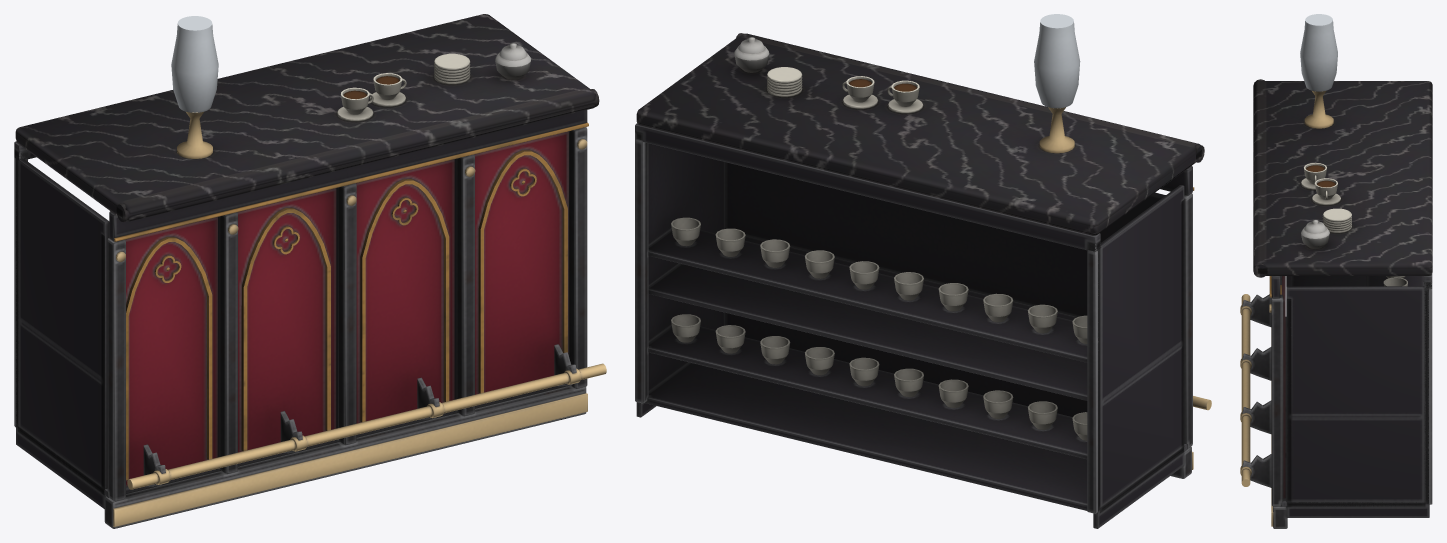
File: CafeBarCounter.fbx
3 views of the same model, side by side, from view 1: azimuth 30°, elevation 25°; view 2: azimuth 150°, elevation 25°; view 3: azimuth 270°, elevation 25° (orthographic). The views are drawn at different scales.
Visible parts, largest first — view 1: CafeBarCounter_Main, CafeBarCounter_Glass; view 2: CafeBarCounter_Main, CafeBarCounter_Glass; view 3: CafeBarCounter_Main, CafeBarCounter_Glass.
Boxes of the visible parts, x1,y1,x2,y2 form: CafeBarCounter_Main: (14, 14, 606, 528); CafeBarCounter_Glass: (171, 16, 218, 112); CafeBarCounter_Main: (635, 33, 1211, 528); CafeBarCounter_Glass: (1034, 14, 1080, 108); CafeBarCounter_Main: (1240, 79, 1432, 528); CafeBarCounter_Glass: (1300, 14, 1337, 91).
Size of the model in its own units: 600 by 555 by 264.
